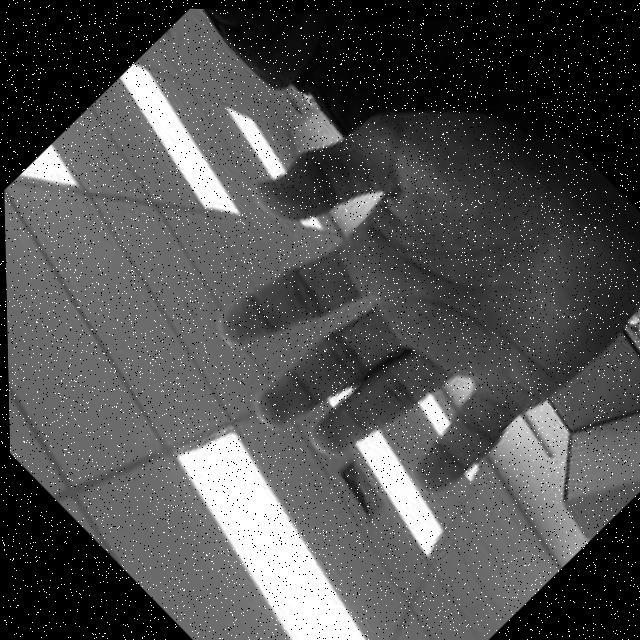no-gloves: (130, 4, 640, 560)
